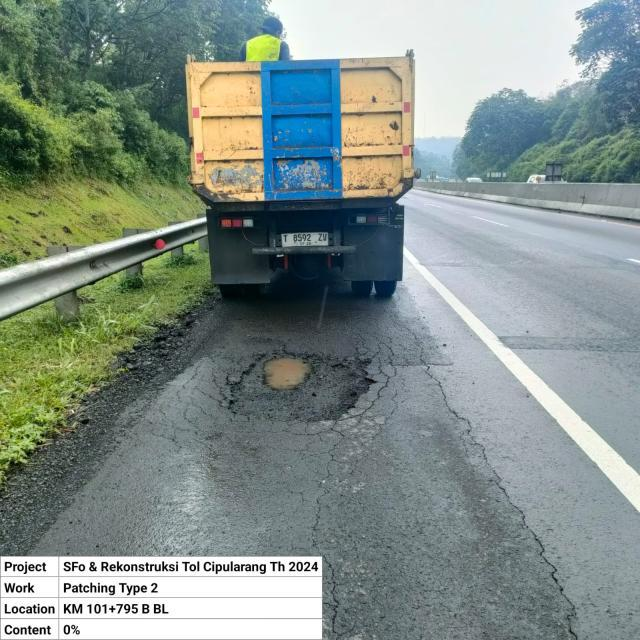Buraco: (216, 344, 382, 426)
